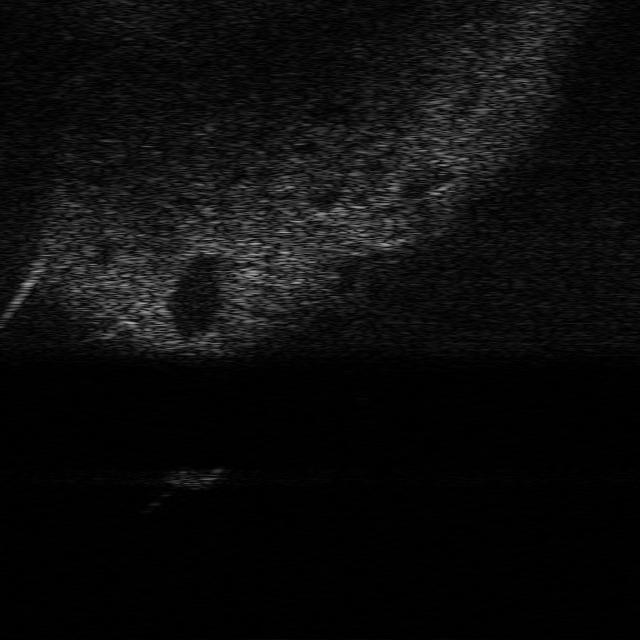cube: (160, 461, 229, 492)
